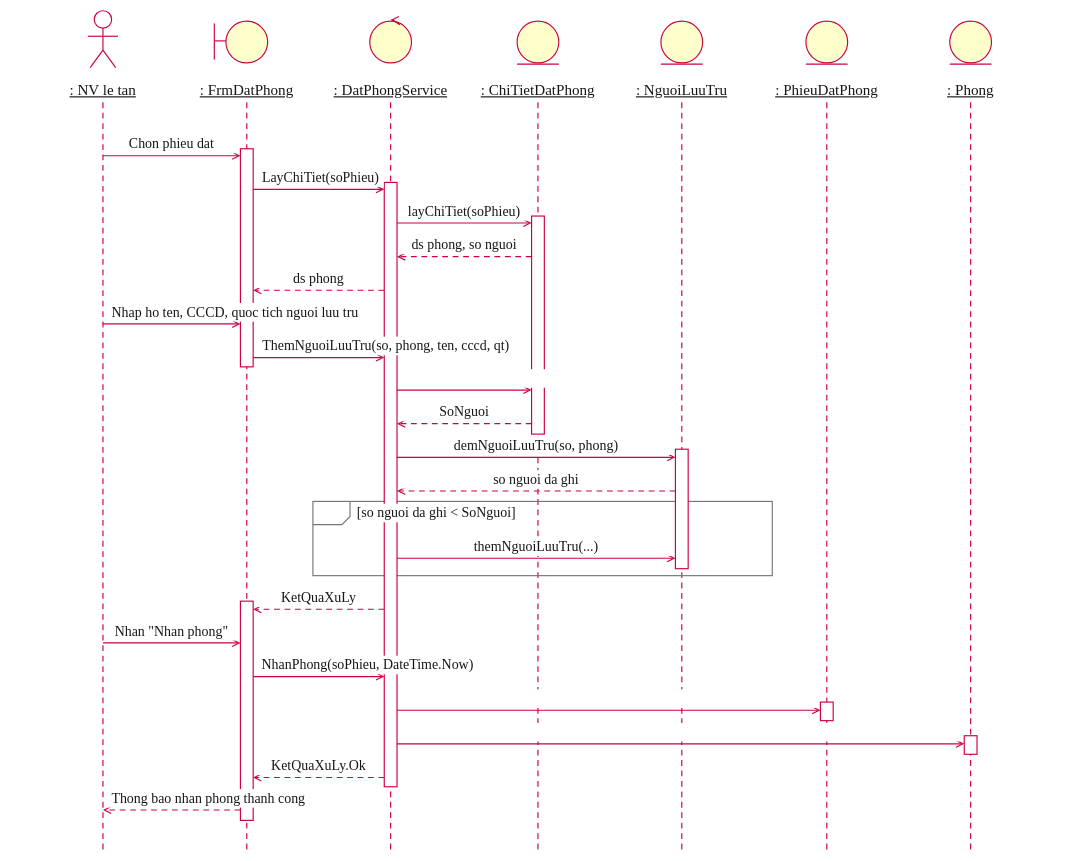
The diagram is 1073 pixels wide and 861 high, and some of its shapes have lost their labels. The shapes that lost their labels are listed below. From the top down, each one's box as (x1, y1, x2, y2) in pixels, then its label:
(401, 369, 585, 387): laySoNguoiDangKy(so, phong)
(316, 502, 343, 522): opt
(401, 689, 815, 708): capNhatTrangThai("Dang o", NgayNhanThucTe)
(401, 723, 959, 741): capNhatTrangThai("Dang o")
